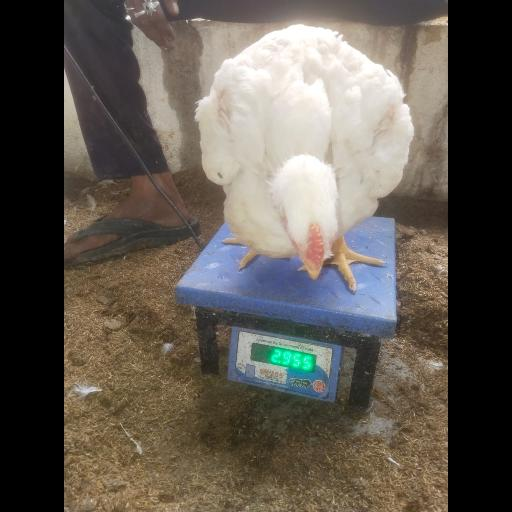chick: (197, 24, 413, 290)
